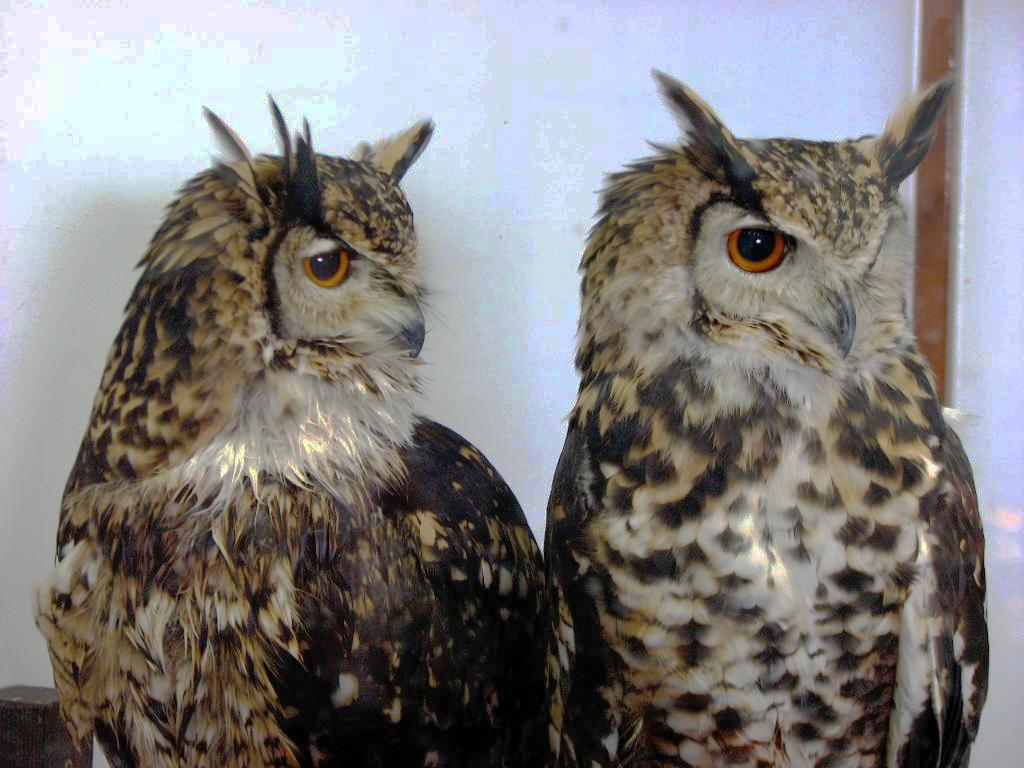Owl: (27, 91, 545, 768), (546, 66, 990, 768)
